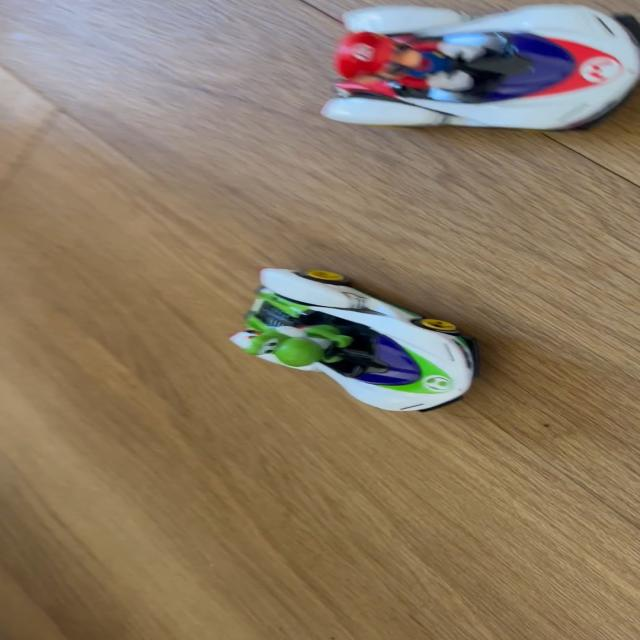mario: (311, 0, 639, 134)
yoshi: (212, 261, 497, 424)
